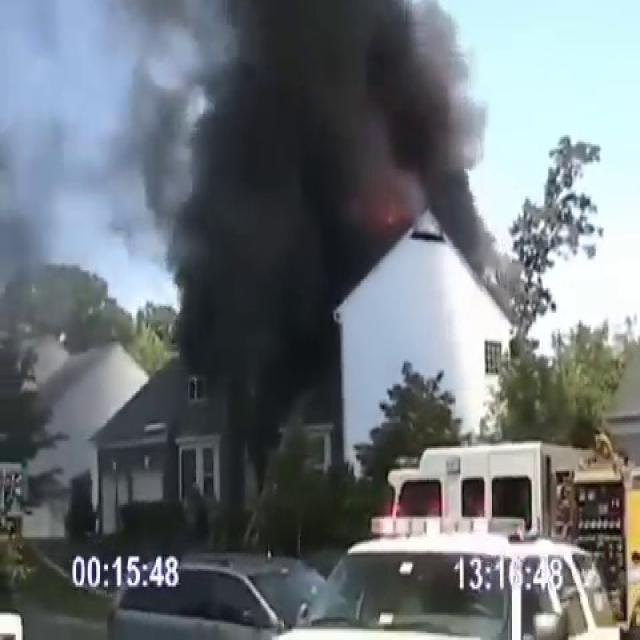Smoke: (96, 11, 487, 384)
